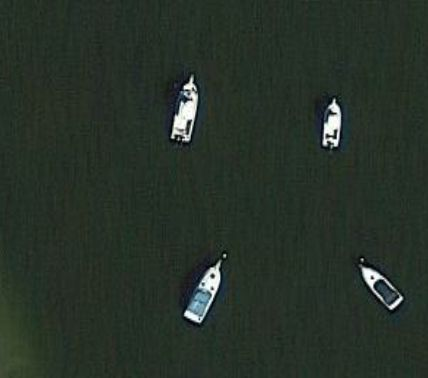boat: (350, 255, 406, 313), (183, 254, 225, 326), (168, 72, 202, 147), (320, 96, 346, 157)
